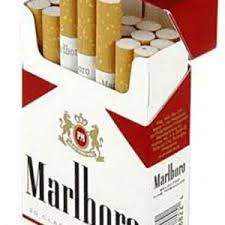marlboro: (20, 44, 149, 225)
